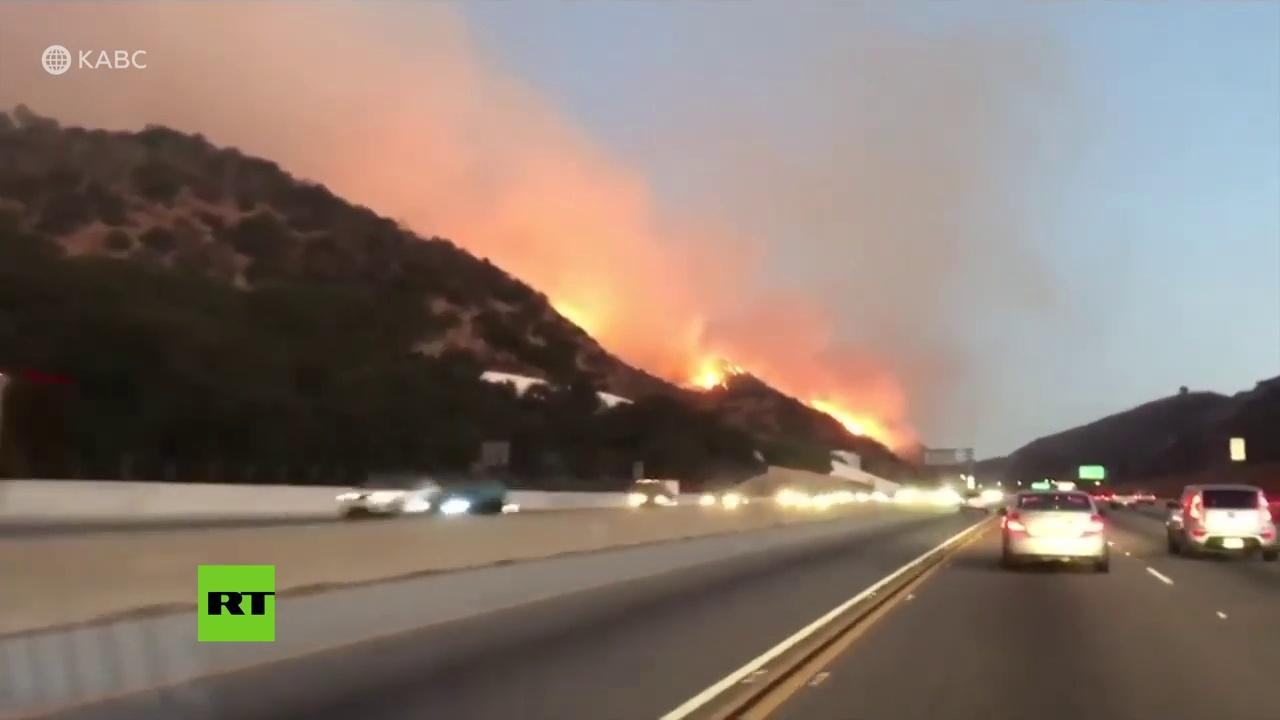Fire: (804, 397, 888, 441), (694, 356, 750, 397)
